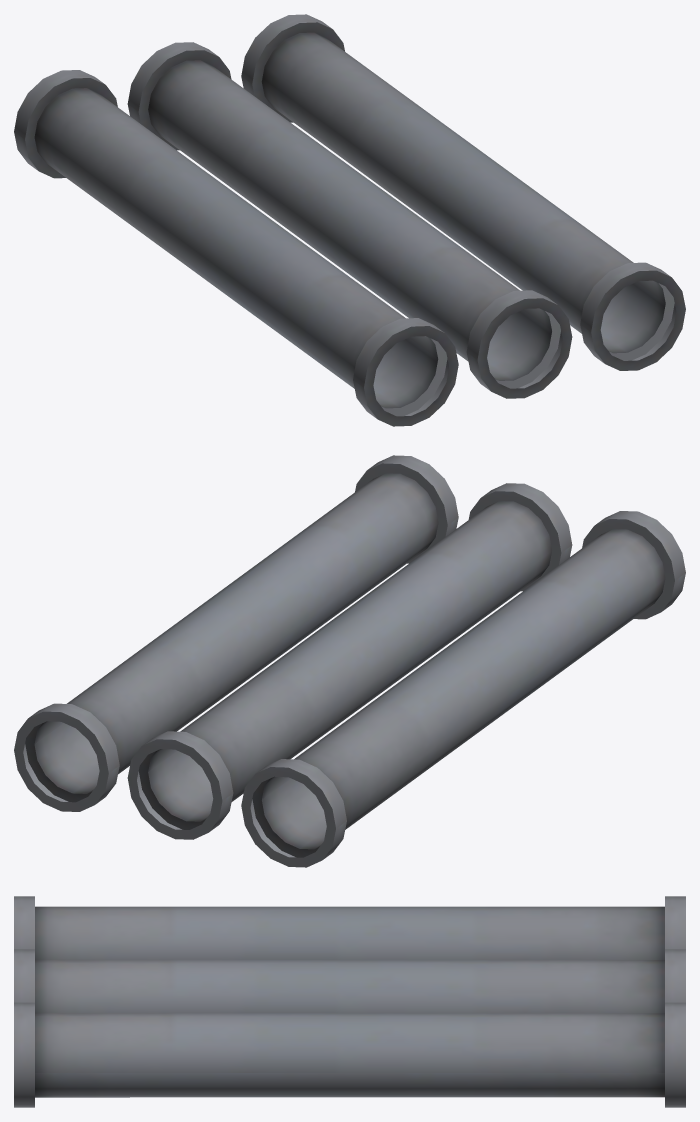
Rendered from props_hydro_3pipe_straight_64.glb.
The picture shows the model from 3 angles, top to bottom: view 1: azimuth 30°, elevation 25°; view 2: azimuth 150°, elevation 25°; view 3: azimuth 270°, elevation 25°; orthographic projection. The views are drawn at different scales.
Visible parts, largest first — view 1: models/props_hydro/3pipe_straight_64; view 2: models/props_hydro/3pipe_straight_64; view 3: models/props_hydro/3pipe_straight_64.
Part boxes in pixels (x1=…): models/props_hydro/3pipe_straight_64: x1=14, y1=14, x2=685, y2=426; models/props_hydro/3pipe_straight_64: x1=14, y1=455, x2=685, y2=867; models/props_hydro/3pipe_straight_64: x1=14, y1=896, x2=685, y2=1107.
Size of the model in its own units: 34.02 by 10.02 by 64.
Materials: 1 (1 with a texture image).
